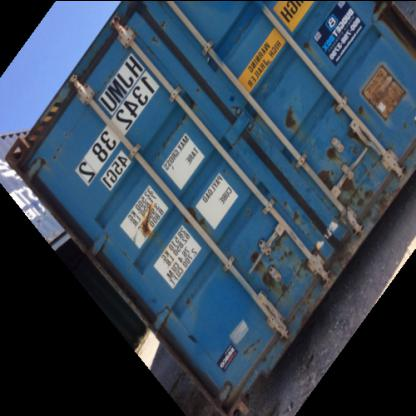Damage: (317, 144, 397, 216), (244, 244, 308, 301), (29, 138, 68, 178), (272, 97, 300, 135), (136, 204, 158, 246), (230, 335, 260, 355)
